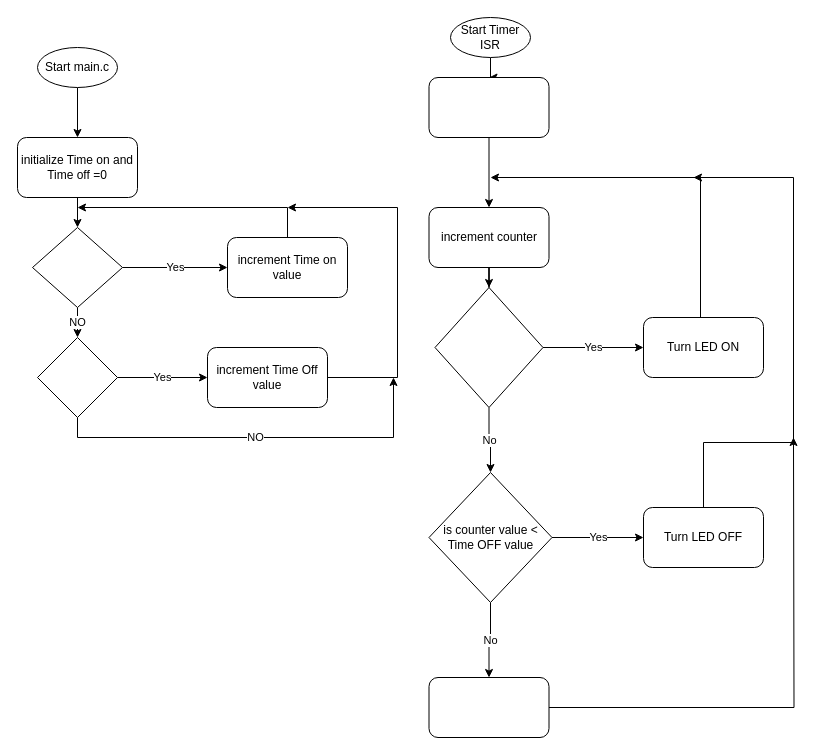
Some shapes in this 820 by 755 pixel diagram are drawn without their labels. The centre of each missing label's shape, as x and y in pixels:
"Counter =0" goes at pixel 488 707.
"initialize counter=0" goes at pixel 488 107.
"is counter value < Time ON value" goes at pixel 488 347.
"is switch 1 pressed ?" goes at pixel 77 267.
"is switch 2 pressed ?" goes at pixel 77 377.
